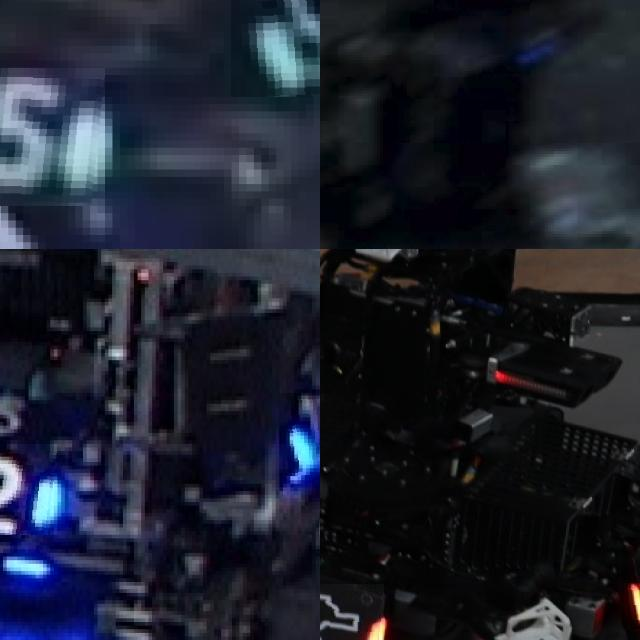B2: (0, 444, 57, 535), (279, 392, 320, 476)
B5: (0, 68, 105, 206), (231, 0, 320, 96)
Rs: (320, 584, 383, 640), (622, 536, 640, 629)
